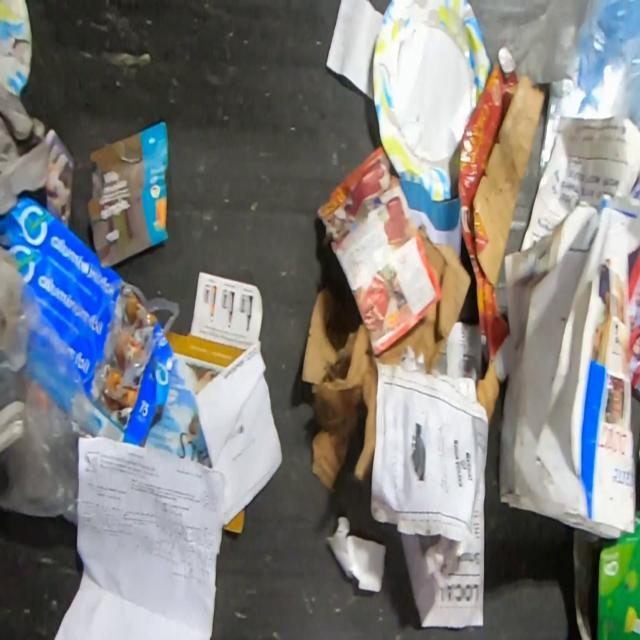cardboard: (300, 224, 472, 495), (0, 195, 178, 447), (458, 45, 547, 425), (370, 0, 493, 201), (571, 510, 640, 640), (140, 361, 219, 467)
soft_plastic: (0, 244, 100, 527), (537, 0, 640, 169), (466, 0, 589, 84), (120, 281, 180, 388)
